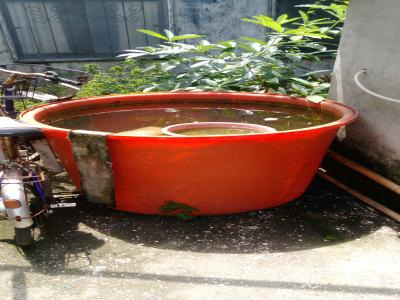bowl: (13, 88, 364, 220)
